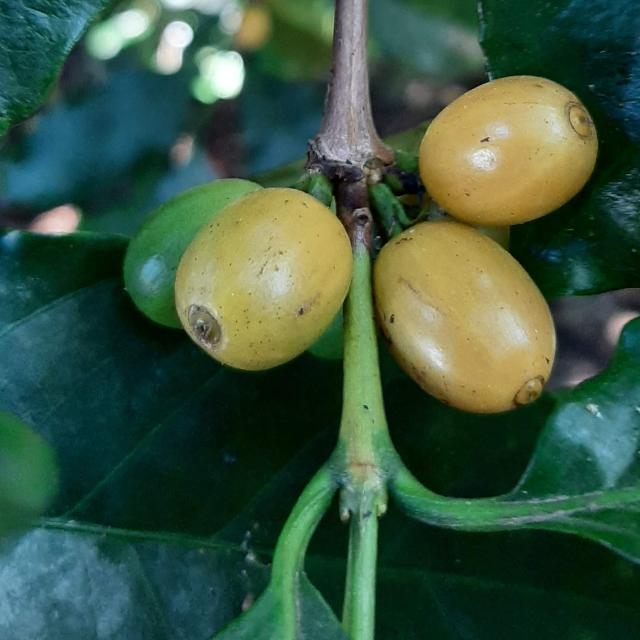green: (123, 179, 260, 328)
red: (373, 222, 556, 414), (419, 75, 599, 226)
yellow: (174, 188, 352, 371)
